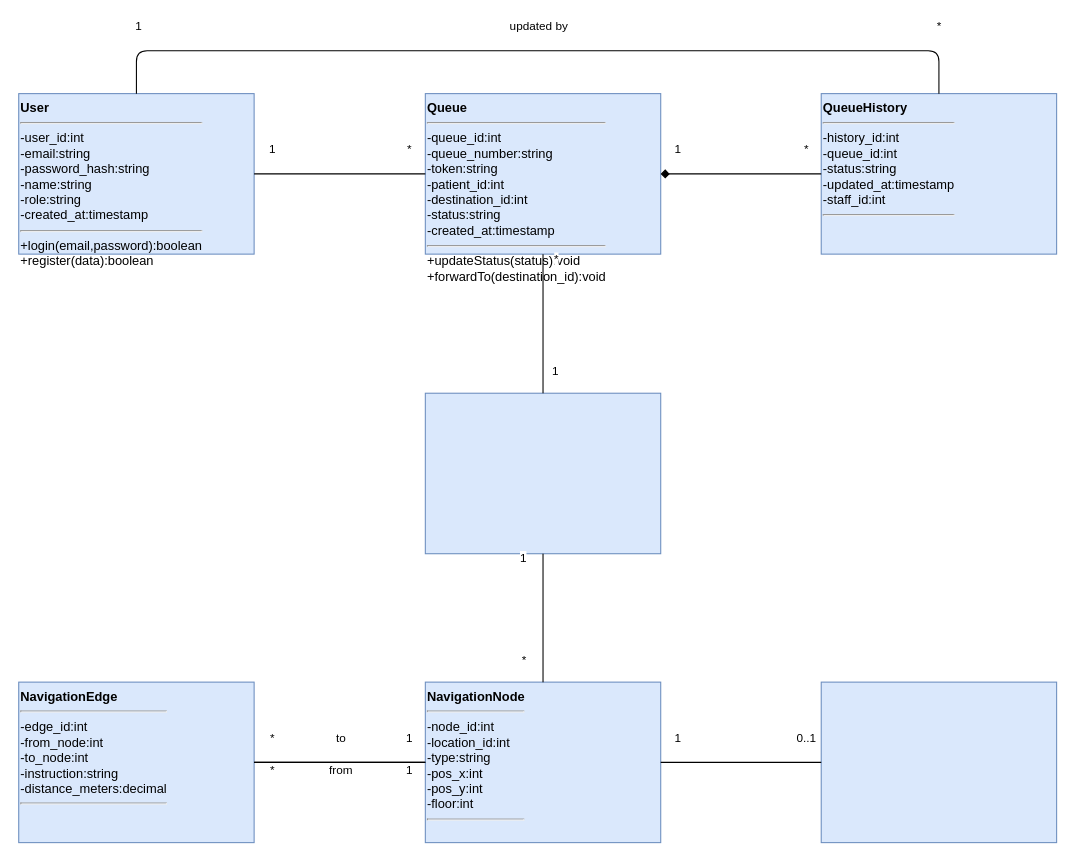
The diagram is 1075 pixels wide and 861 high, and some of its shapes have lost their labels. The shapes that lost their labels are listed below. From the top down, each one's centre as x and y in pixels, then its label:
(542,473): Location -location_id:int -name:string -building:string -floor:int
(938,762): QRCheckpoint -qr_id:int -node_id:int -code_hash:string
